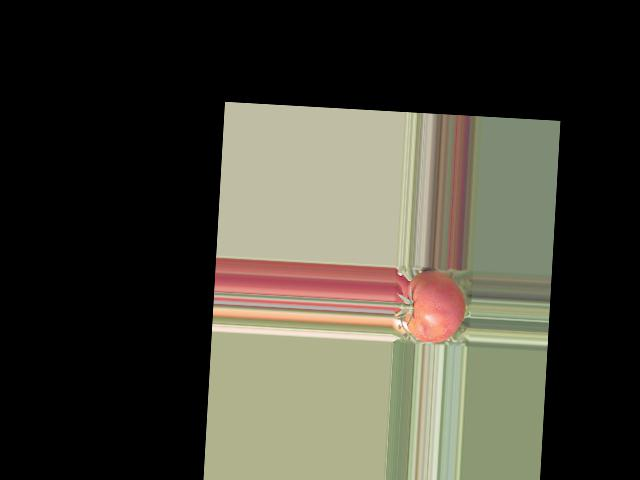tomato: (402, 269, 467, 344)
